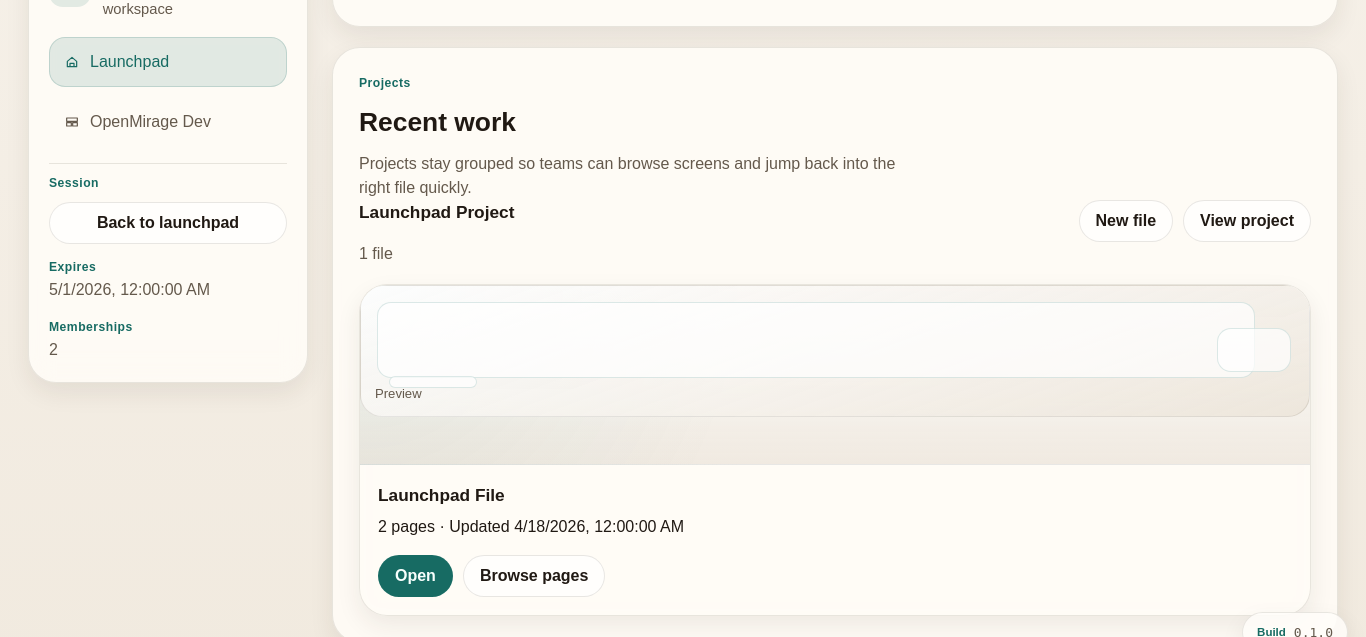
Test: App auth and routing flows › reuses cached file details when pages are hidden and reopened
(page scrolled)
Expected: the text "Launchpad File" is shown, top-left (378, 485), bottom-right (505, 505)
Click the button "Browse pages".
click(534, 576)  # box top-left (463, 555), bottom-right (605, 597)
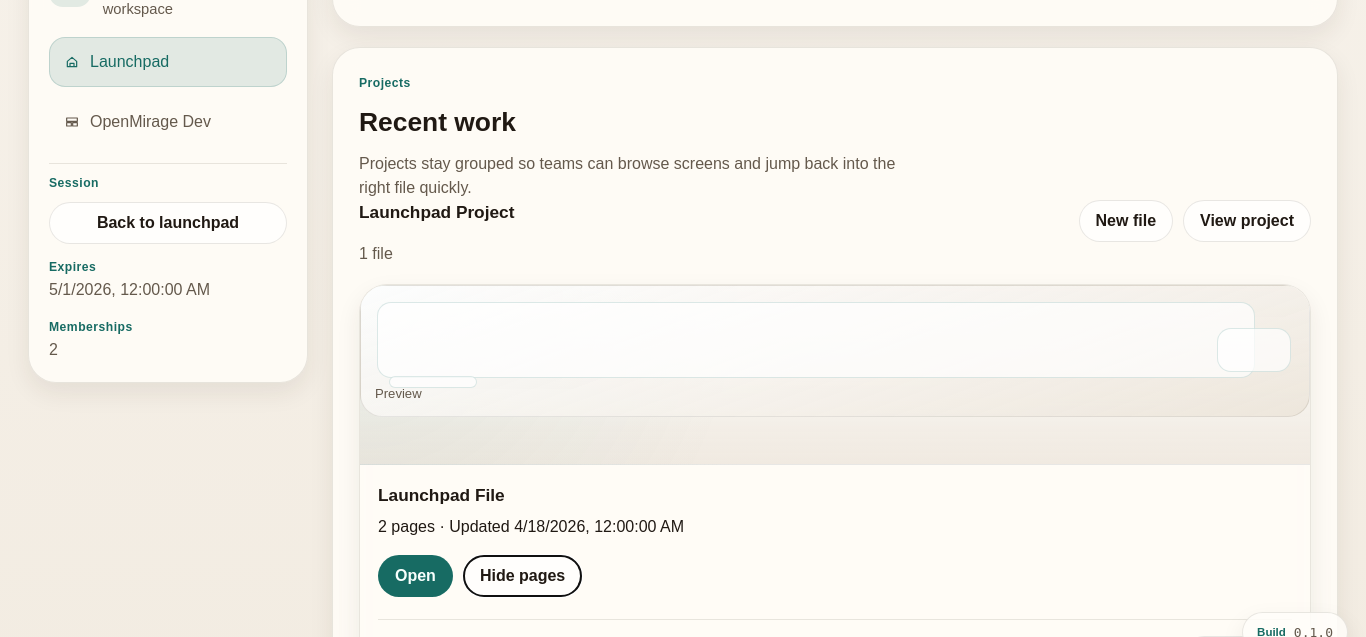
Click the button "Hide pages".
click(523, 576)  # box top-left (463, 555), bottom-right (582, 597)
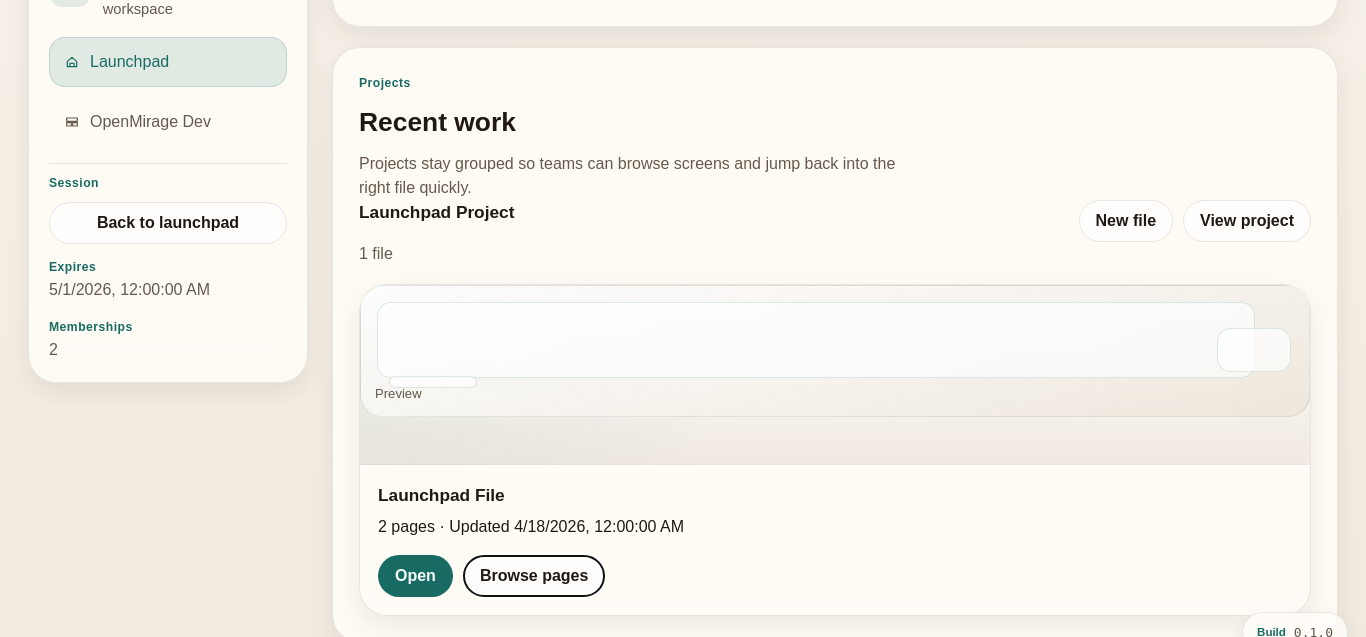
Click the button "Browse pages".
click(534, 576)  # box top-left (463, 555), bottom-right (605, 597)
(page scrolled)
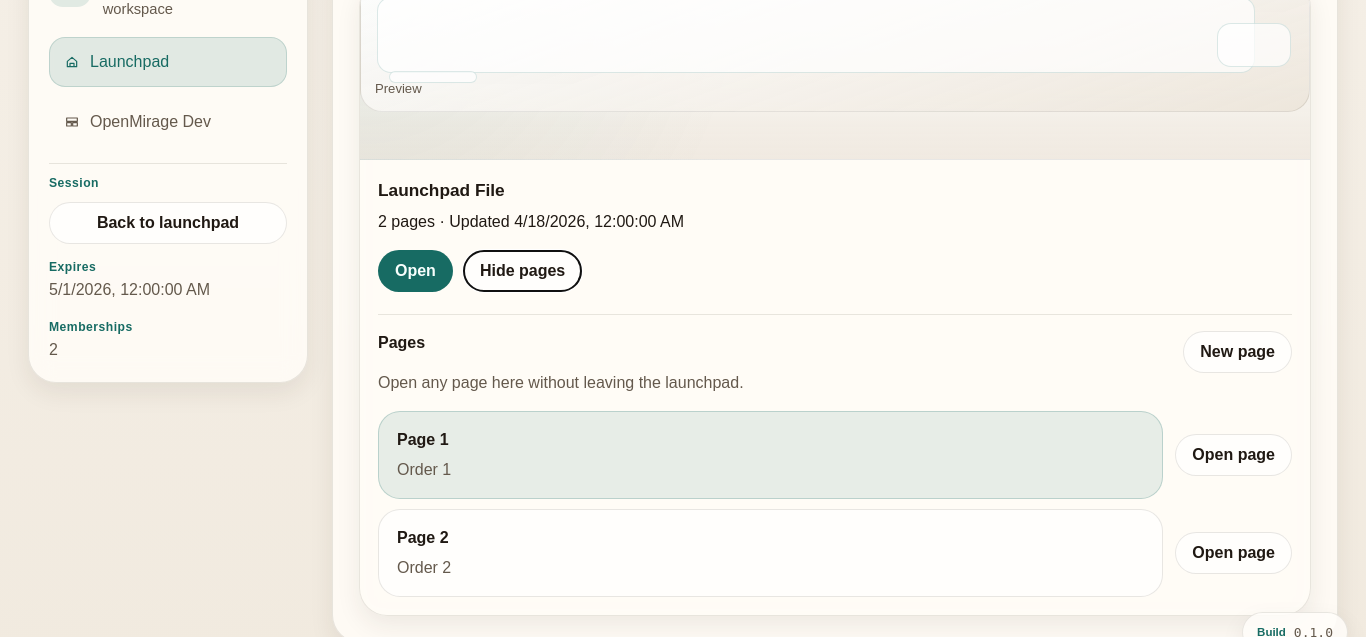
Expected: the text "Page 2" is shown, top-left (397, 529), bottom-right (449, 546)
